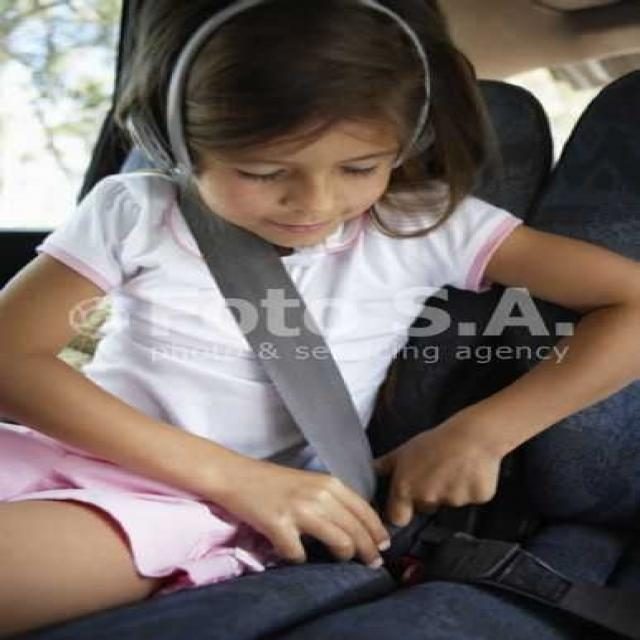seatbelt: (137, 138, 465, 583)
